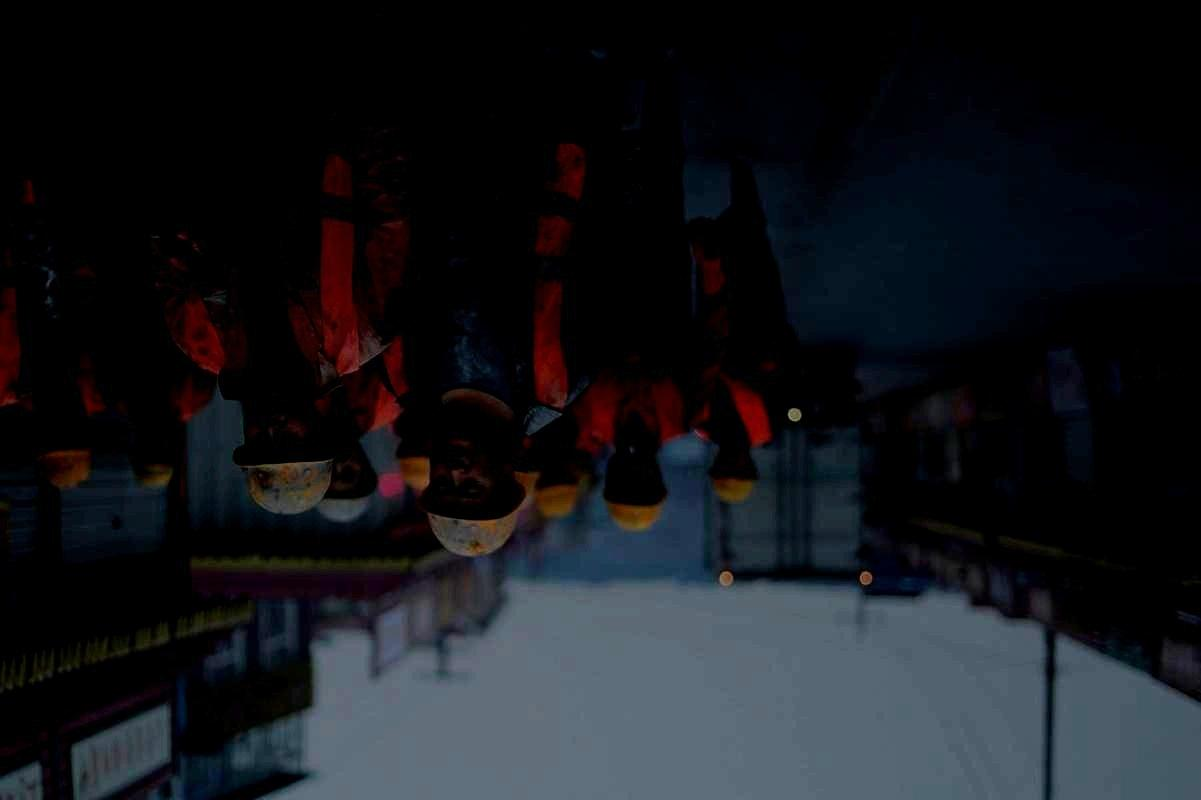helmet: (421, 418, 528, 558), (233, 373, 333, 515), (601, 448, 669, 532), (314, 441, 378, 522), (706, 441, 759, 505), (534, 463, 578, 518), (39, 450, 91, 494), (511, 439, 541, 513), (394, 435, 431, 491), (132, 461, 175, 491)
